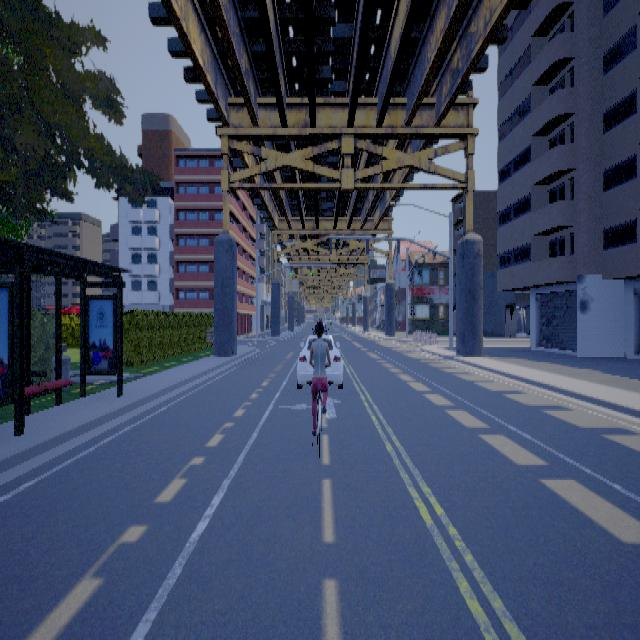bike: (306, 320, 333, 435)
green_light: (310, 266, 312, 275), (290, 266, 292, 274)
vehicle: (295, 317, 344, 387)
